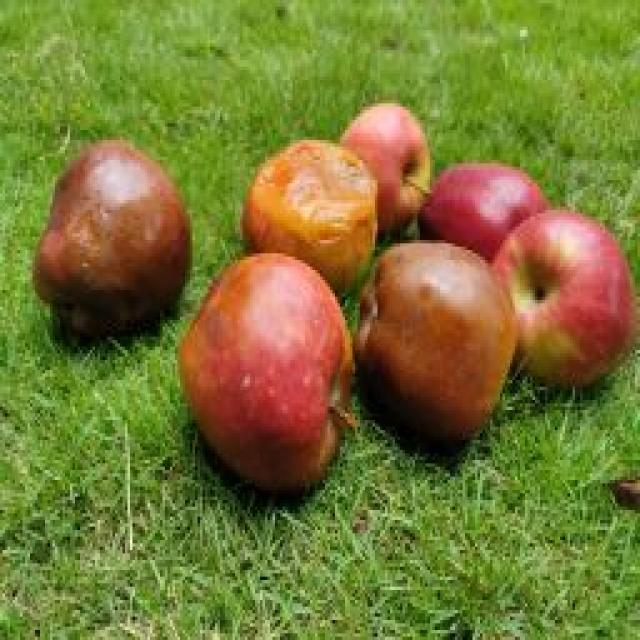Organik: (174, 250, 350, 498), (355, 234, 518, 462), (31, 139, 195, 351), (479, 191, 632, 397), (231, 123, 379, 297), (408, 122, 560, 267), (335, 94, 433, 232)
